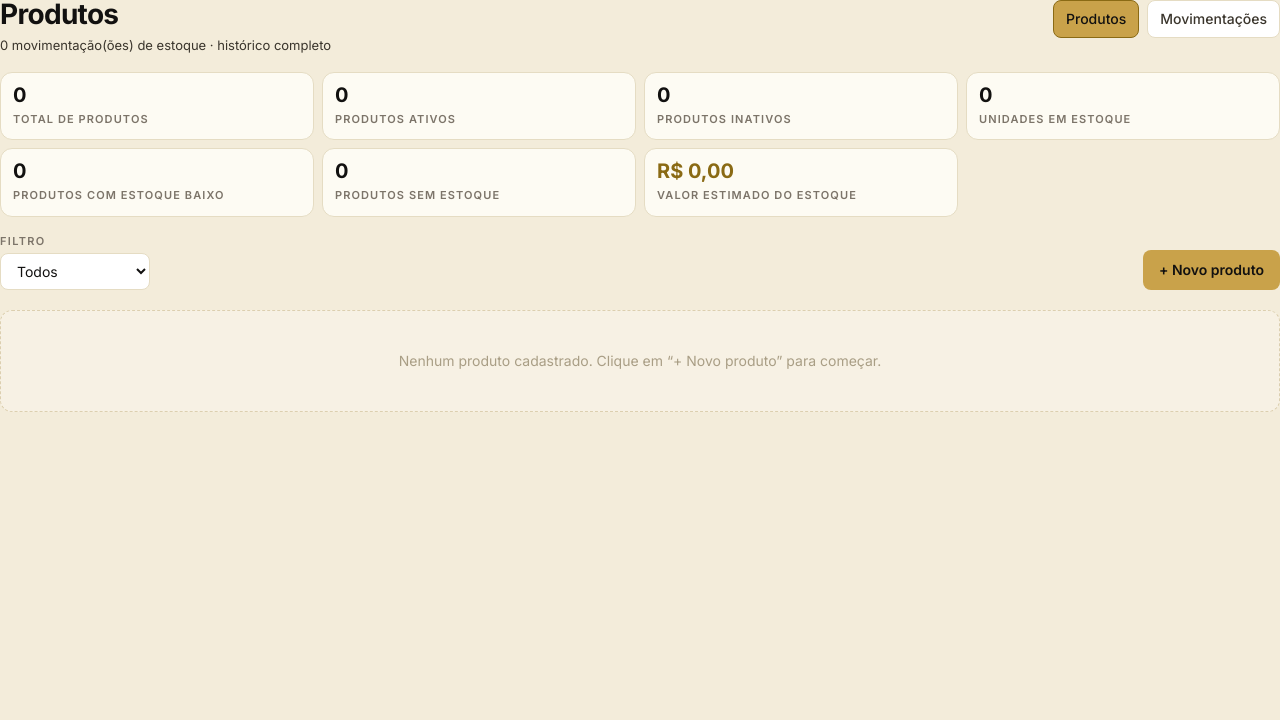
Test: Página Produtos — cadastro mínimo › impede nome duplicado exibindo aviso no modal
Click the button "+ Novo produto". click: click(1212, 270)
box: [1143,250,1279,290]
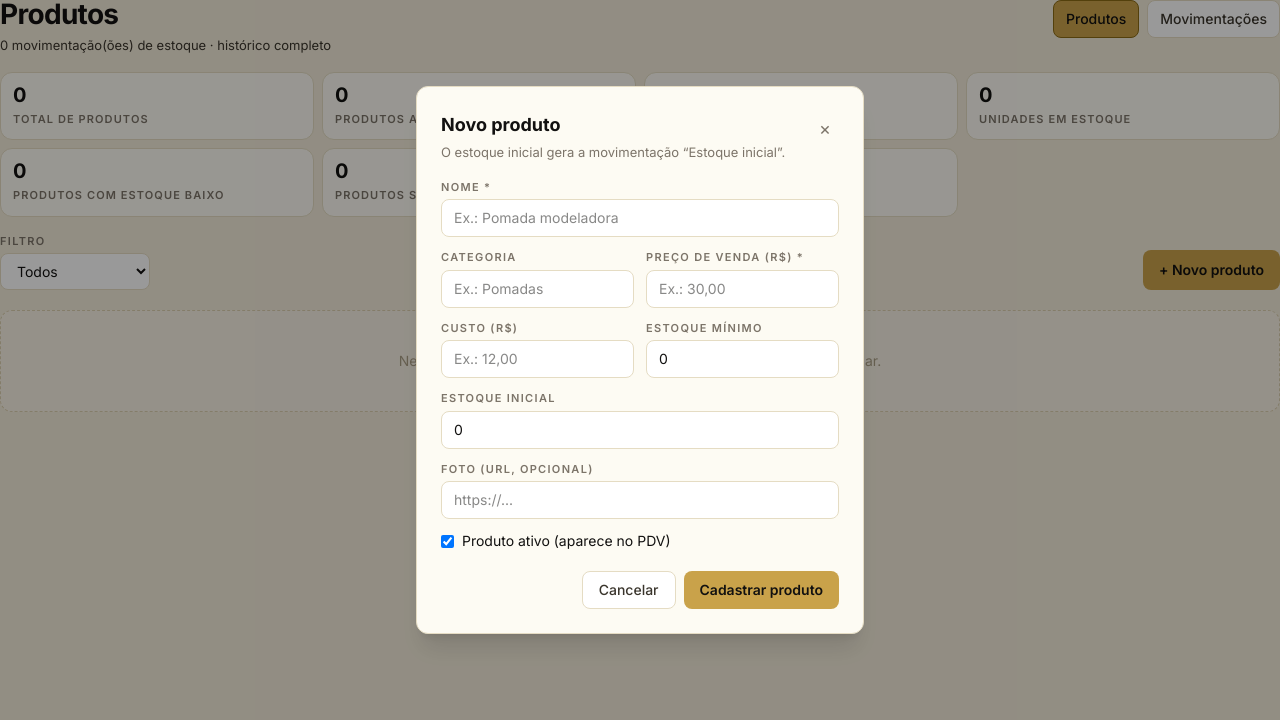
Type "Creme capilar" into the field labelled "Nome *". click: (640, 218)
box: [441,199,839,237]
Type "30,00" into the field labelled "Preço de venda (R$) *". click: (742, 288)
box: [646,270,839,308]
Click the button "Cadastrar produto". click: click(761, 590)
box: [684,571,839,609]
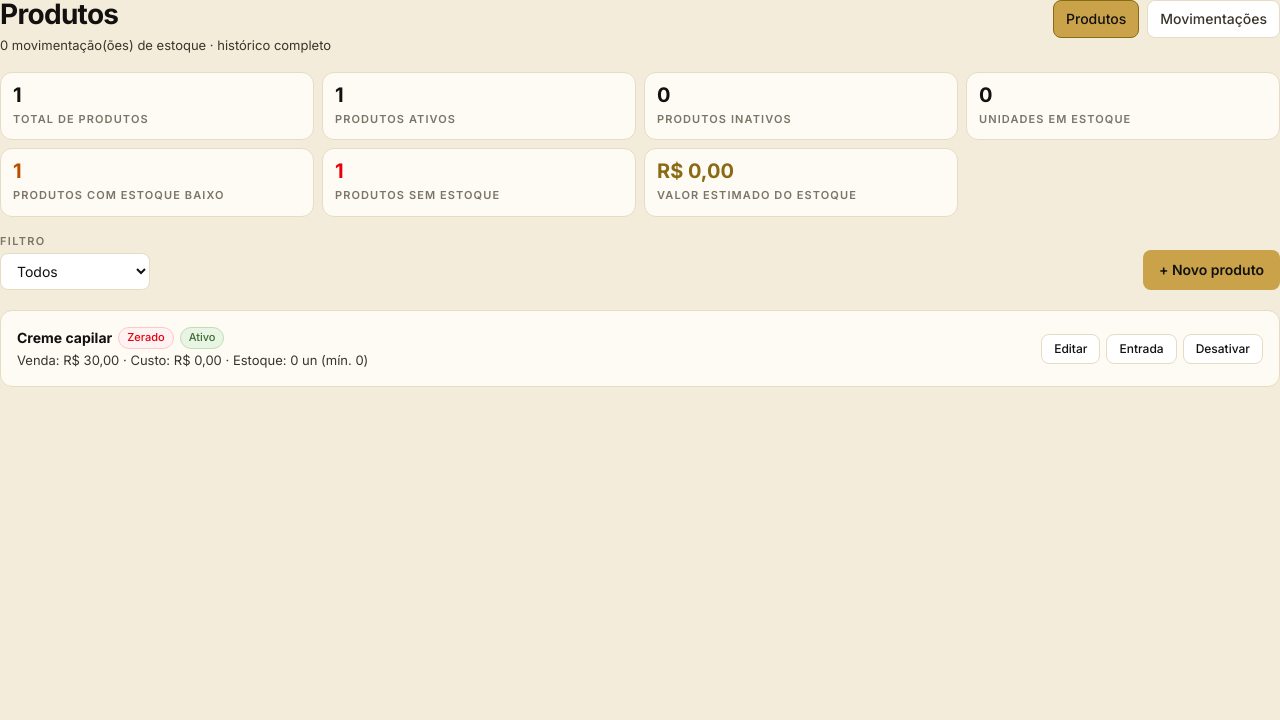
Click the button "+ Novo produto". click: click(1212, 270)
box: [1143,250,1279,290]
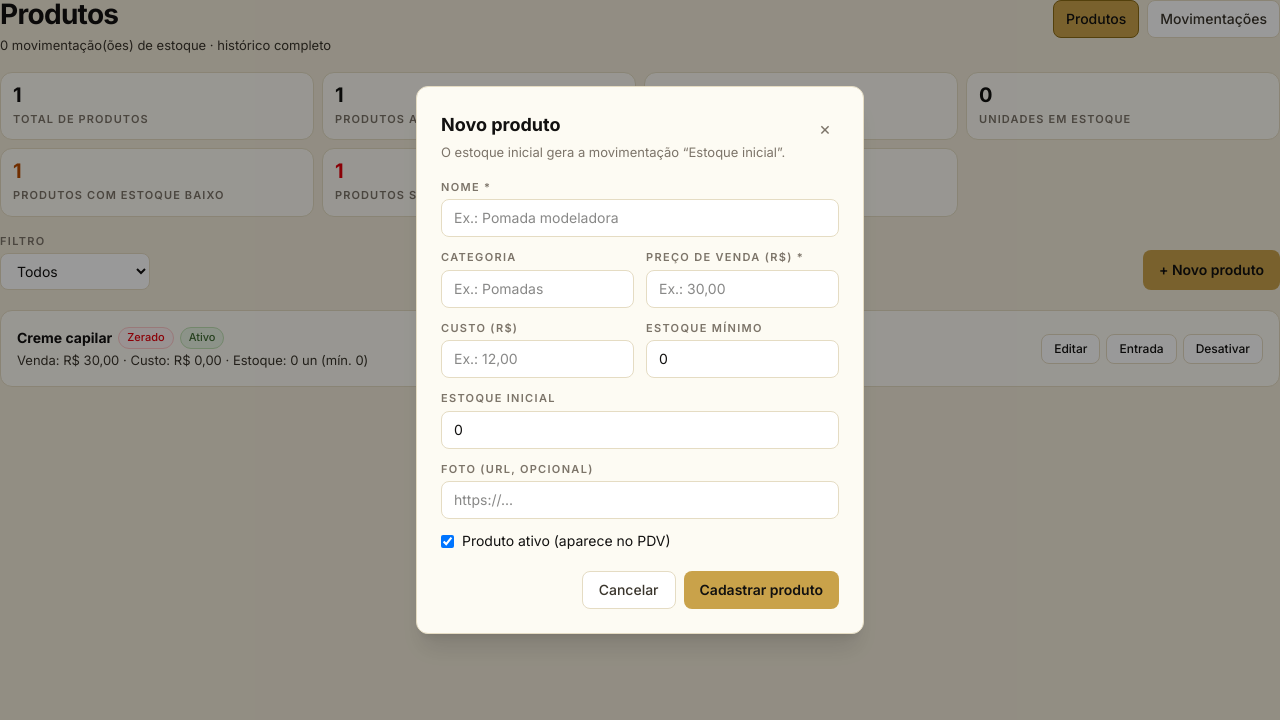
Type "Creme capilar" into the field labelled "Nome *". click: (640, 218)
box: [441,199,839,237]
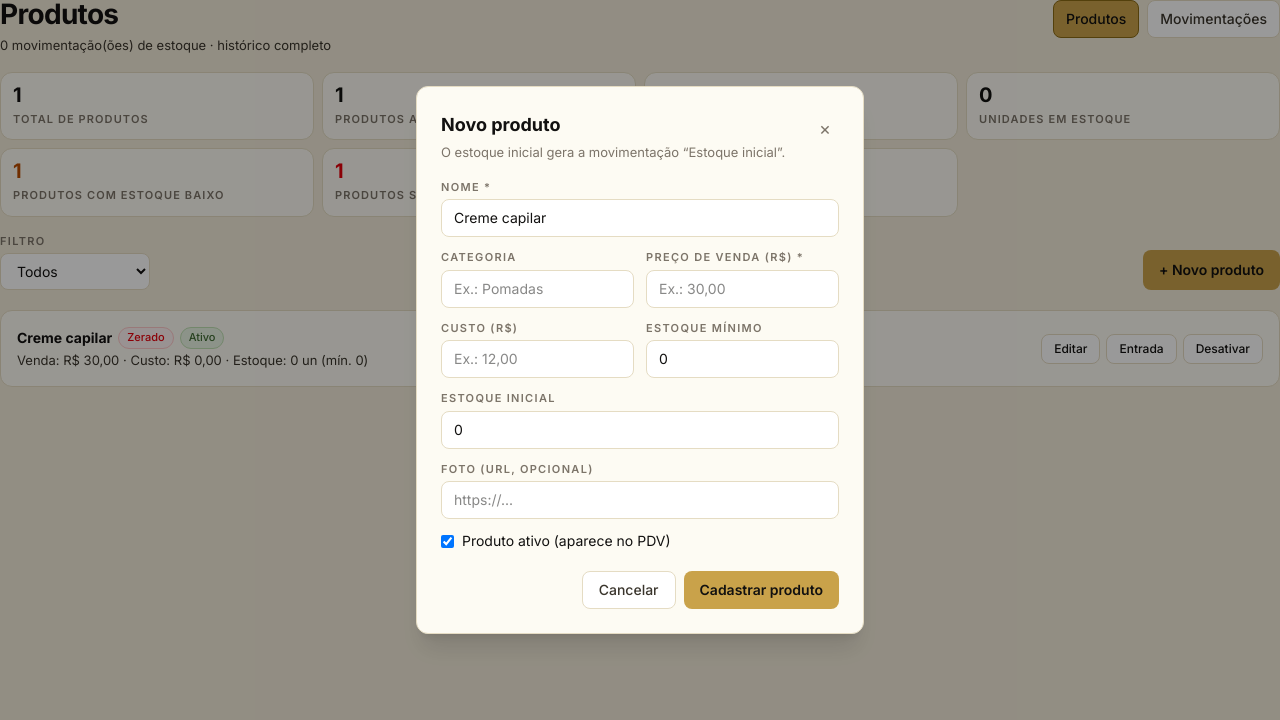
Type "10,00" into the field labelled "Preço de venda (R$) *". click: (742, 288)
box: [646,270,839,308]
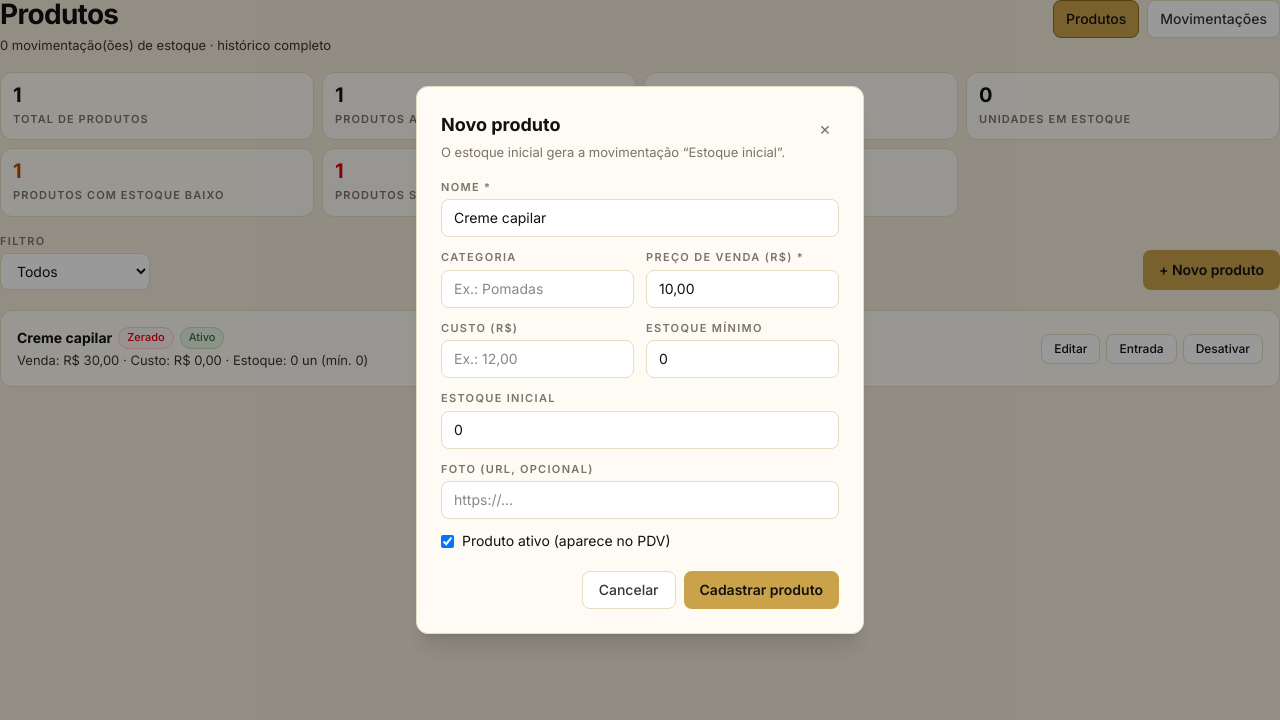
Click the button "Cadastrar produto". click: click(761, 590)
box: [684,571,839,609]
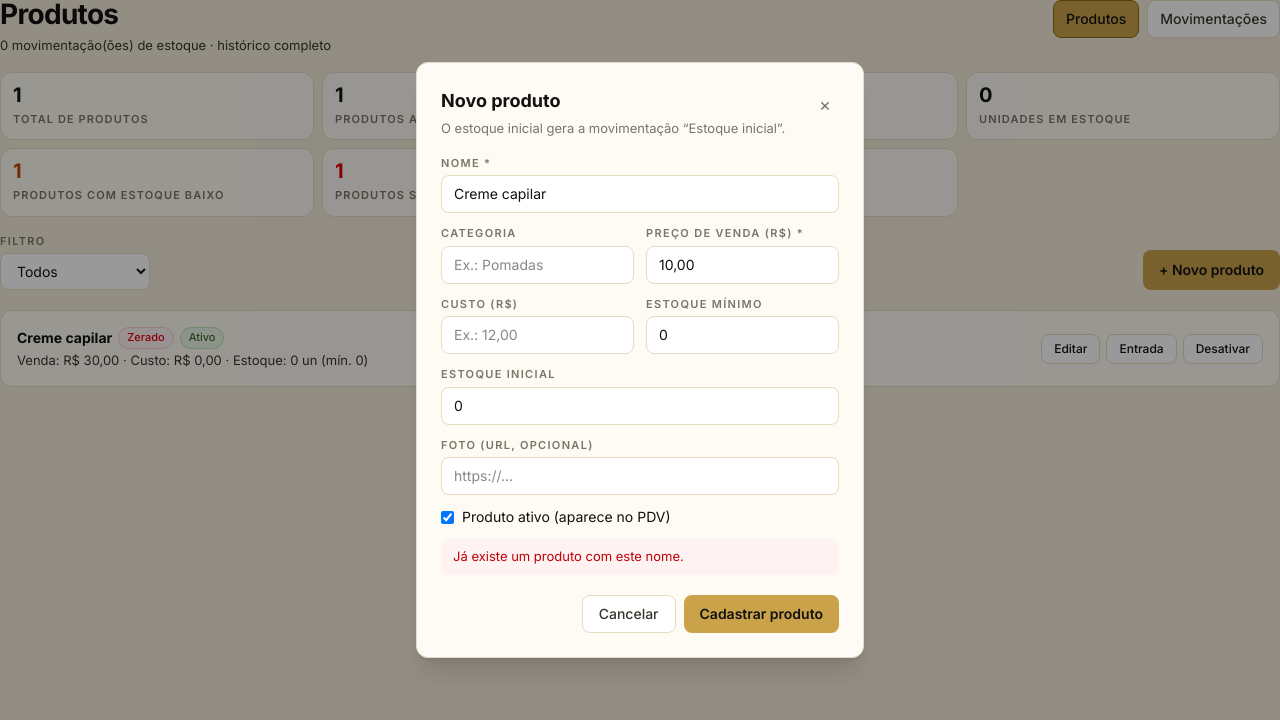
Check: the number of list items is 1, box [0,310,1279,387]
Check: the text "Já existe um produto com este nome." is shown, box [441,539,839,575]
